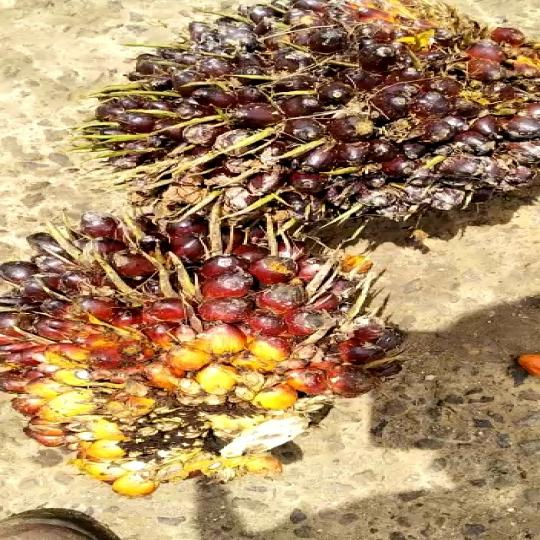kurang masak: (0, 194, 399, 522), (77, 0, 540, 246)
